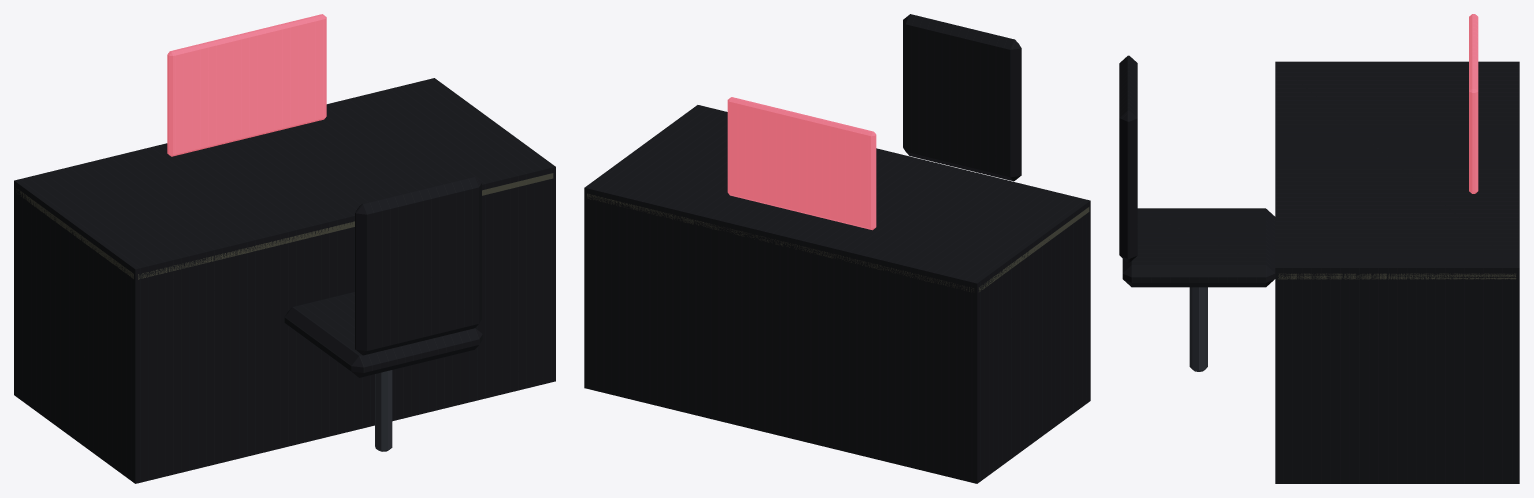
Rendered from kit_office_desk.glb.
The picture shows the model from 3 angles, left to right: view 1: azimuth 30°, elevation 25°; view 2: azimuth 150°, elevation 25°; view 3: azimuth 270°, elevation 25°; orthographic projection. The views are drawn at different scales.
Visible parts, largest first — view 1: od_COL, od_chair_back, od_monitor, od_chair_seat, od_top, od_chair_post; view 2: od_COL, od_chair_back, od_monitor, od_top; view 3: od_COL, od_chair_seat, od_chair_back, od_monitor, od_chair_post, od_top.
Boxes of the visible parts, x1,y1,x2,y2 form: od_COL: (14,78,555,483); od_chair_back: (355,176,481,355); od_monitor: (167,14,326,156); od_chair_seat: (284,292,482,377); od_top: (16,173,553,279); od_chair_post: (375,370,392,451); od_COL: (584,105,1090,483); od_chair_back: (903,14,1021,181); od_monitor: (727,97,876,230); od_top: (587,193,1089,292); od_COL: (1275,61,1519,483); od_chair_seat: (1122,208,1275,287); od_chair_back: (1119,55,1137,262); od_monitor: (1469,14,1478,193); od_chair_post: (1189,287,1207,371); od_top: (1278,273,1516,279).
Size of the model in its own units: 1.6 by 1.19 by 1.31.
Materials: 4 (4 with a texture image).
